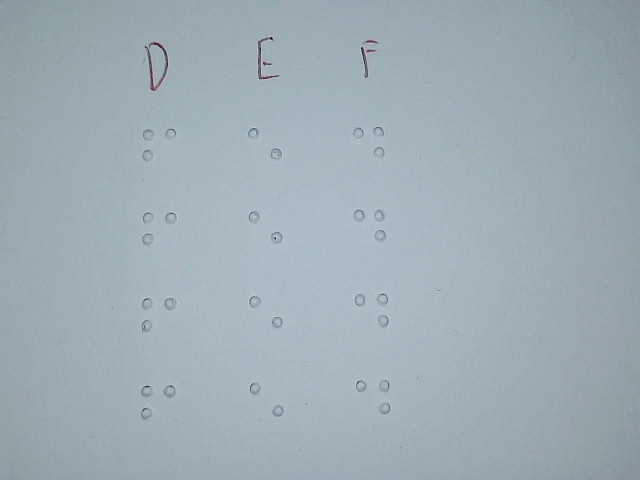D: (351, 114, 388, 178), (350, 196, 387, 260), (353, 280, 390, 344), (354, 367, 391, 431)
E: (244, 113, 286, 184), (245, 196, 287, 267), (246, 281, 288, 352), (246, 368, 288, 439)
F: (140, 115, 180, 189), (140, 198, 180, 272), (139, 282, 179, 356), (139, 370, 179, 444)
